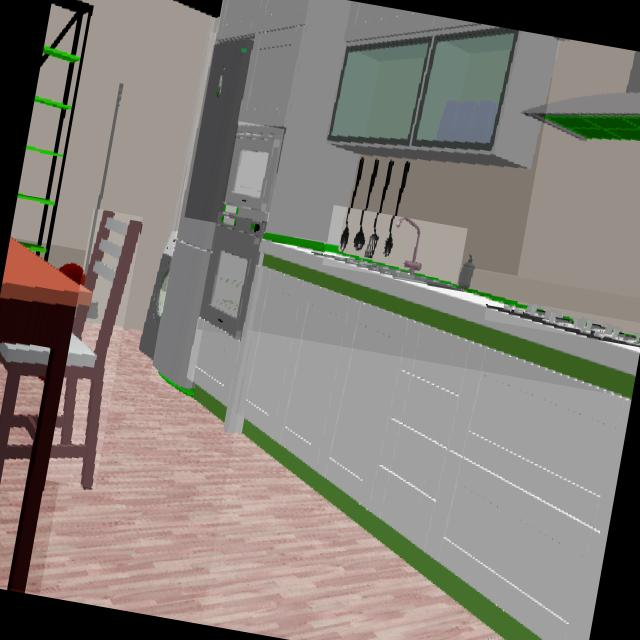cabinet: (244, 268, 630, 640), (216, 0, 558, 244)
chair: (49, 211, 141, 487), (0, 346, 49, 475)
countertop: (262, 235, 639, 396)
fridge: (153, 38, 251, 388)
microwave: (223, 126, 284, 221)
oven: (200, 213, 264, 336)
sink: (325, 218, 448, 287)
stove: (488, 301, 640, 347)
table: (0, 237, 92, 590)
